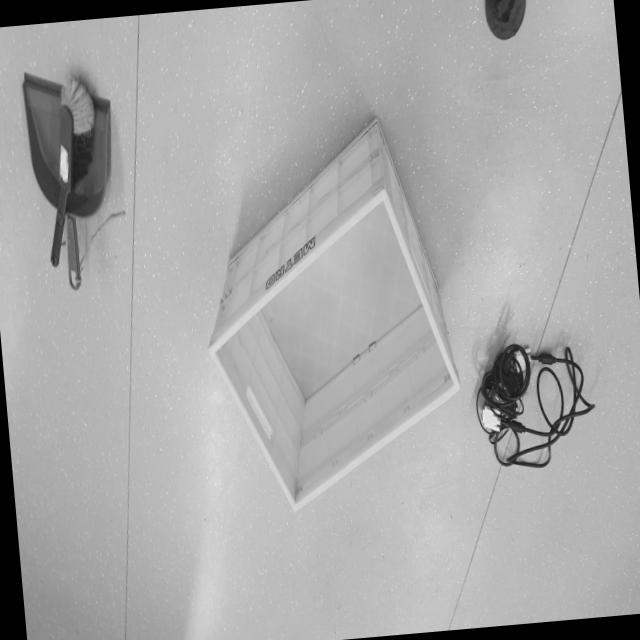box: (183, 92, 476, 525)
